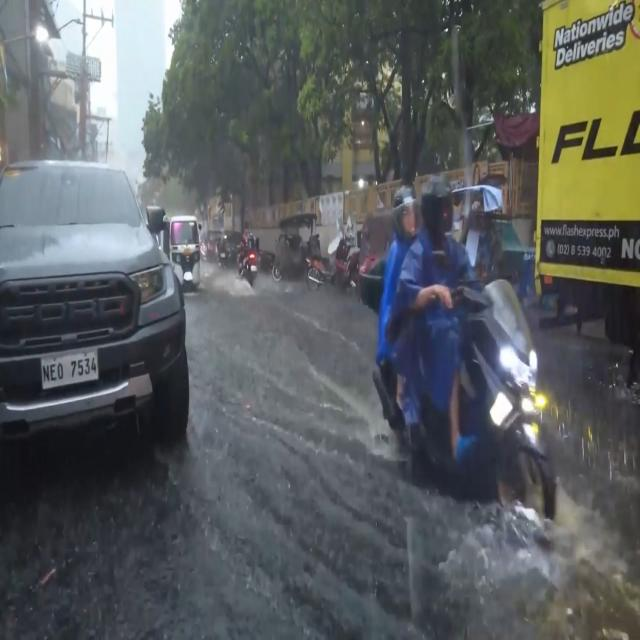full: (420, 175, 454, 240)
half: (390, 180, 420, 238)
